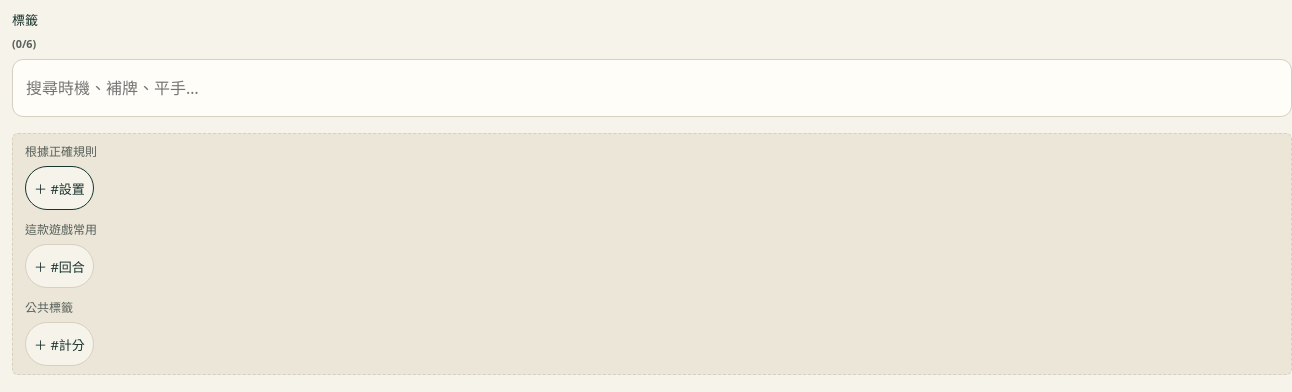
Test: TagInput recommendations › includes unseen public tags in game search and text inference
Expected: the button with aria-label "加入標籤 設置" is shown, left=25, top=166, right=94, bottom=210
Step 1. Focus the dropdown → (652, 88), box left=19, top=66, right=1285, bottom=110
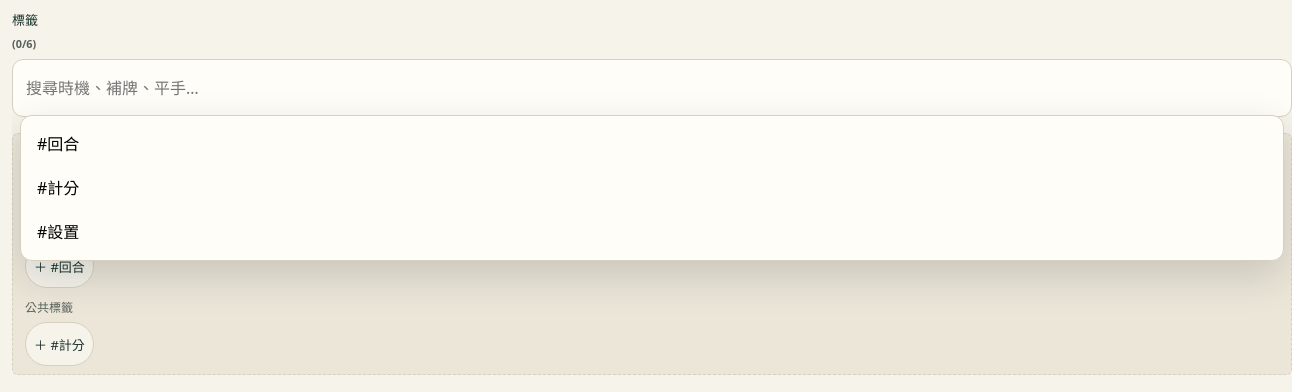
Expected: the option "#計分" is shown, left=27, top=166, right=1277, bottom=210
Expected: the option "#回合" is shown, left=27, top=122, right=1277, bottom=166
